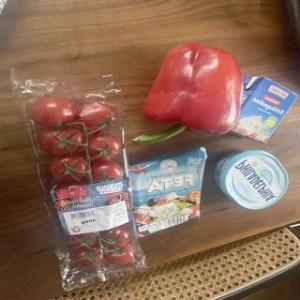bell_pepper: (127, 40, 246, 153)
tomato: (37, 120, 95, 158), (31, 94, 81, 132), (80, 96, 122, 136), (46, 154, 94, 188), (84, 130, 124, 164), (91, 158, 127, 188)
